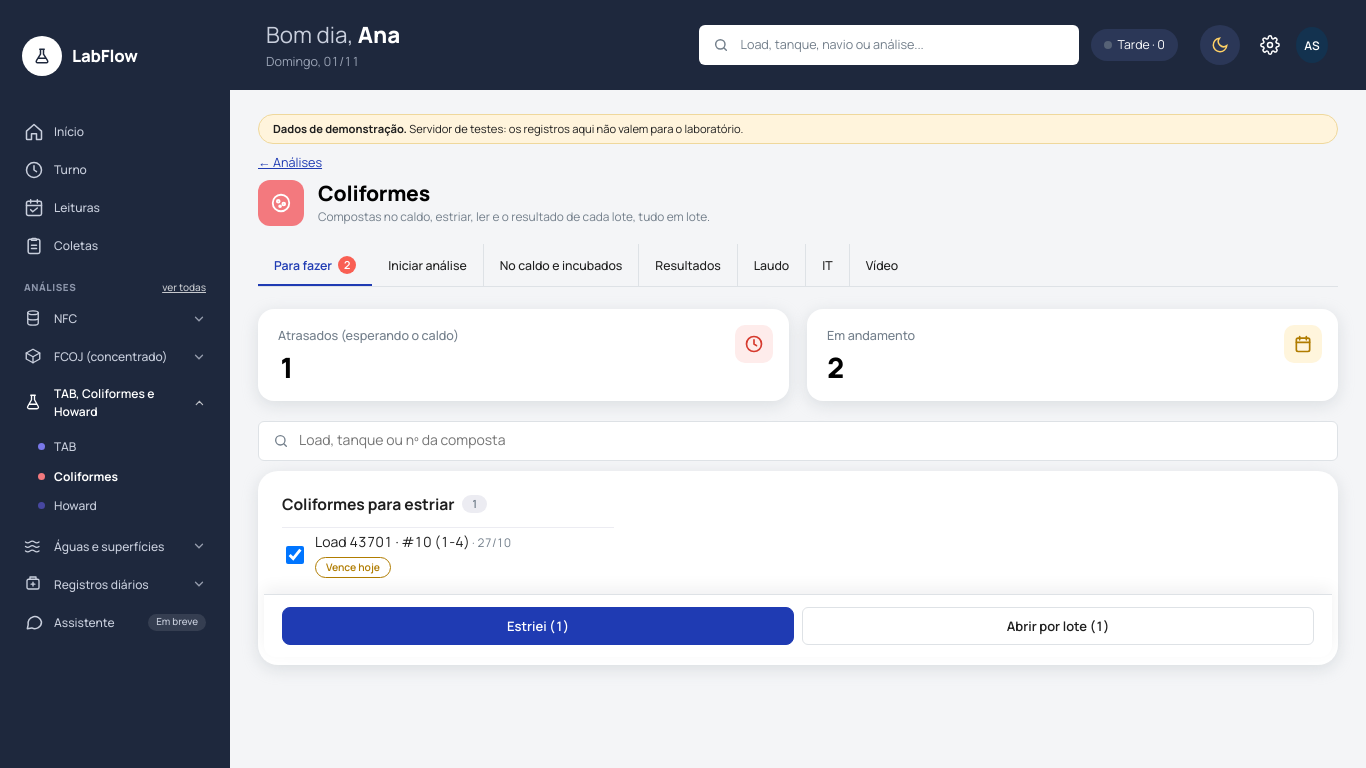
Test case: apps de análise da Fase E (E3 a E8) › Coliformes: os atrasados são as compostas esperando o caldo; os cartões abrem Iniciar análise e No caldo e incubados (27/10)
Expected: the element "Coliformes para estriar" is shown, [258,470,1338,665]
Click the button with aria-label "Atrasados (esperando o caldo): 1": {"x": 754, "y": 344} [258,310,789,400]
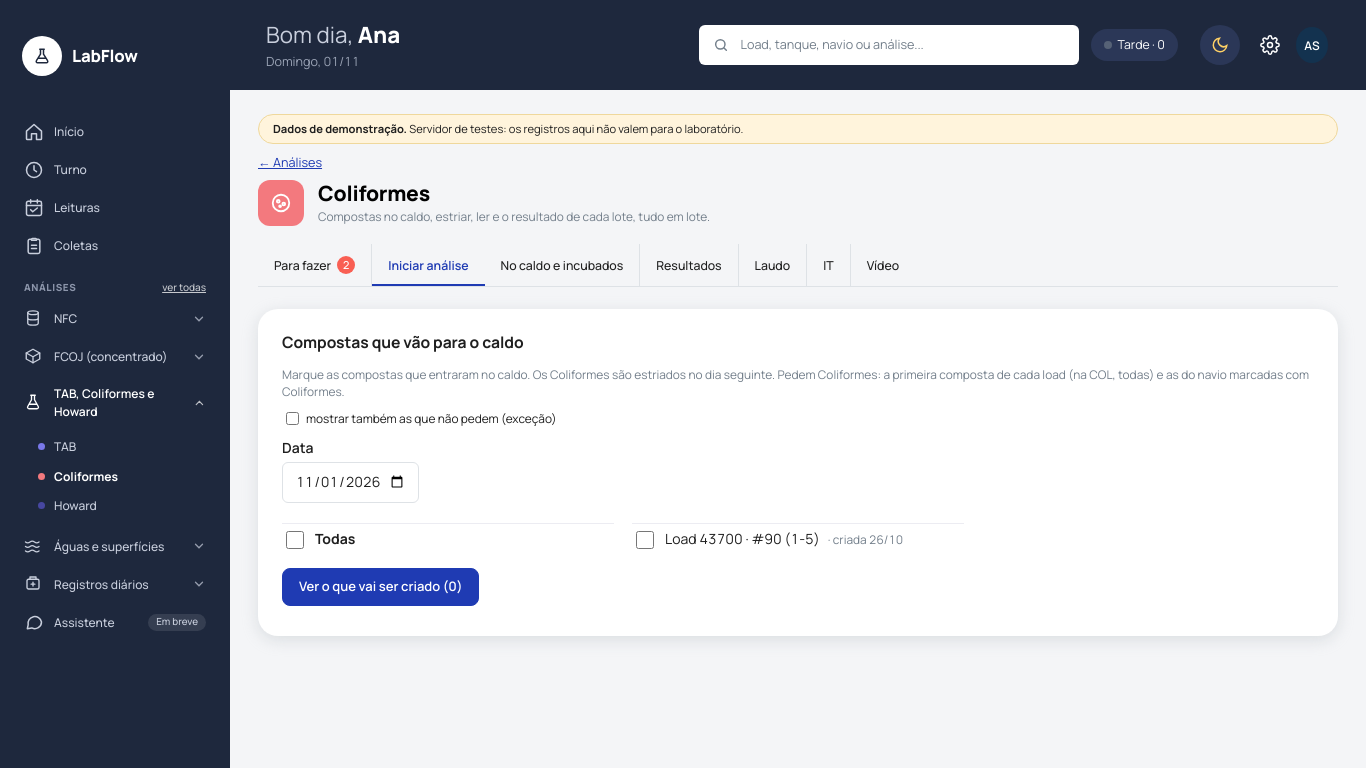
Result: the heading "Compostas que vão para o caldo" is shown at [282,332,524,354]
Result: the checkbox labelled "Load 43700 · #90 (1-5) · criada 26/10" is shown at [636,531,654,549]
Click the button "Para fazer 2": {"x": 315, "y": 266} [258,244,372,286]
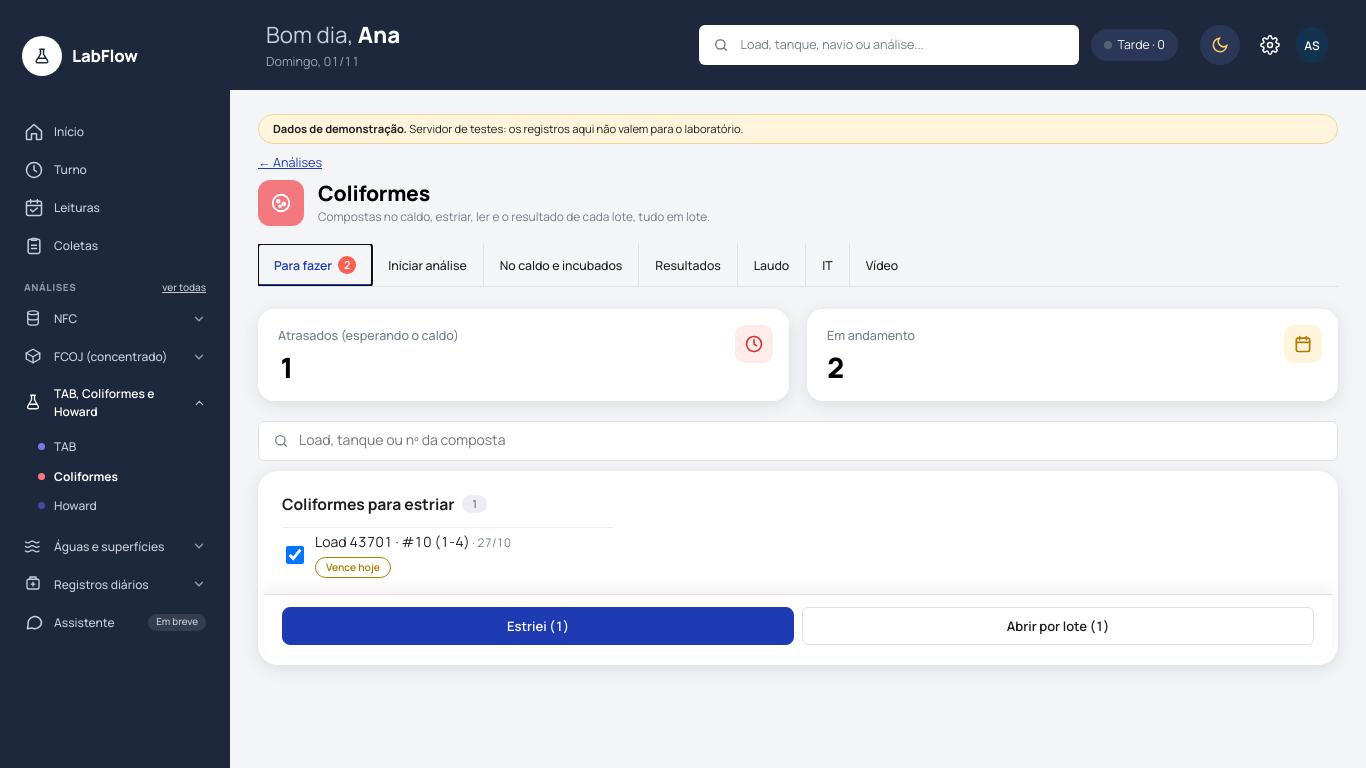
Click the button with aria-label "Em andamento: 2": {"x": 1303, "y": 344} [807,310,1338,400]
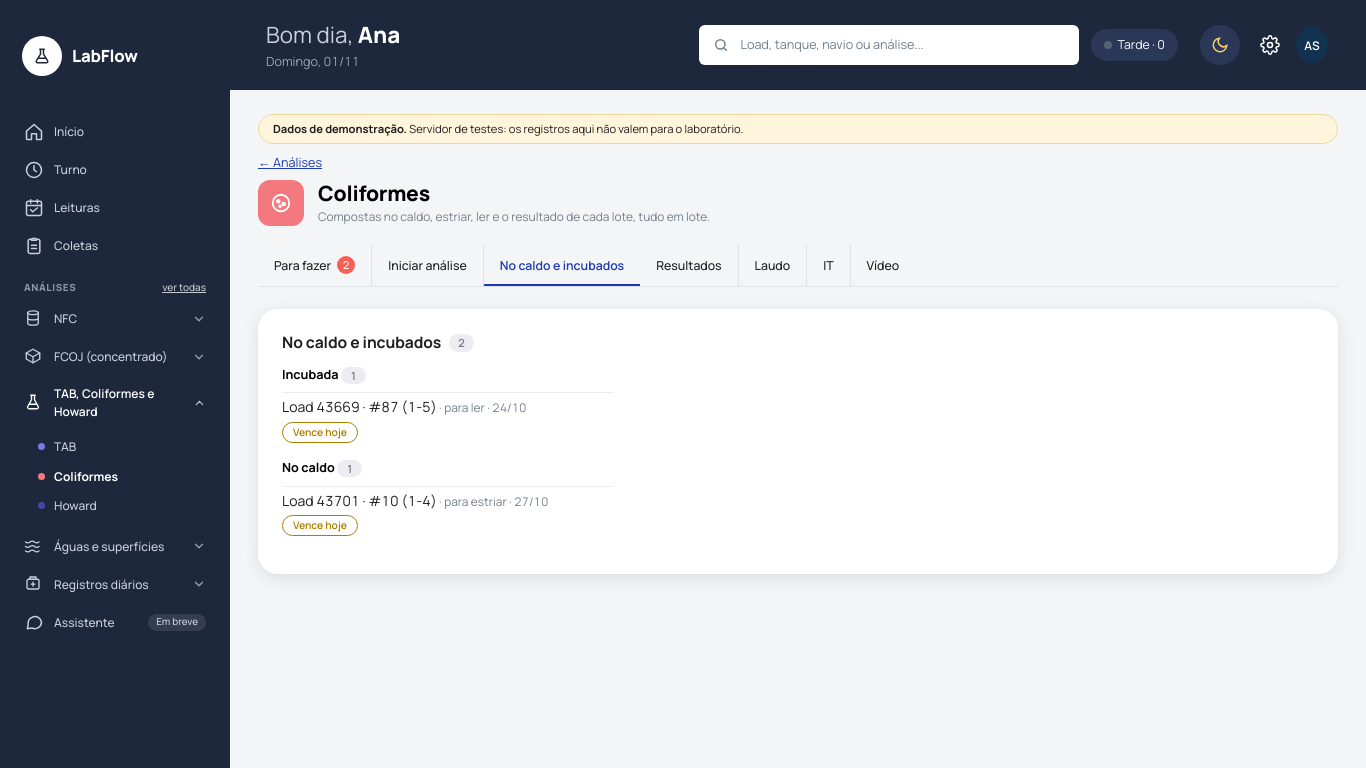
Result: the text "Load 43669 · #87 (1-5) · para ler · 24/10" is shown at [282,398,526,418]
